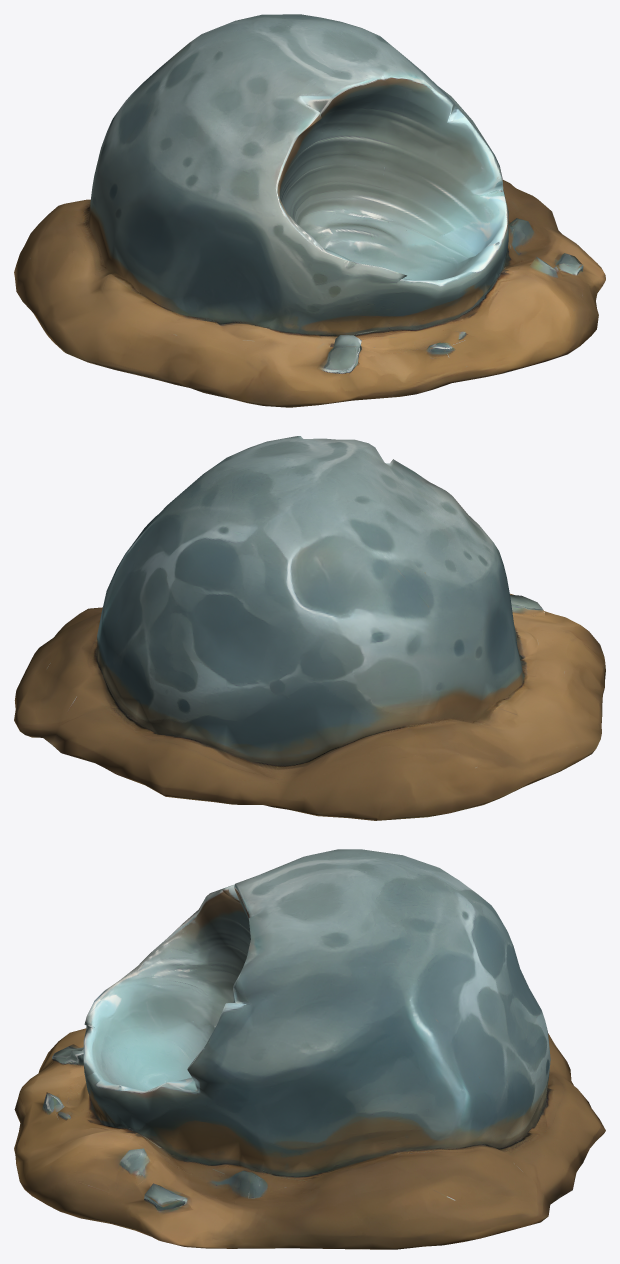
3 renders of one model, top to bottom at view 1: azimuth 30°, elevation 25°; view 2: azimuth 150°, elevation 25°; view 3: azimuth 270°, elevation 25°, orthographic. The views are drawn at different scales.
Size of the model in its own units: 2 by 0.9284 by 1.94.
Materials: 1 (1 with a texture image).
